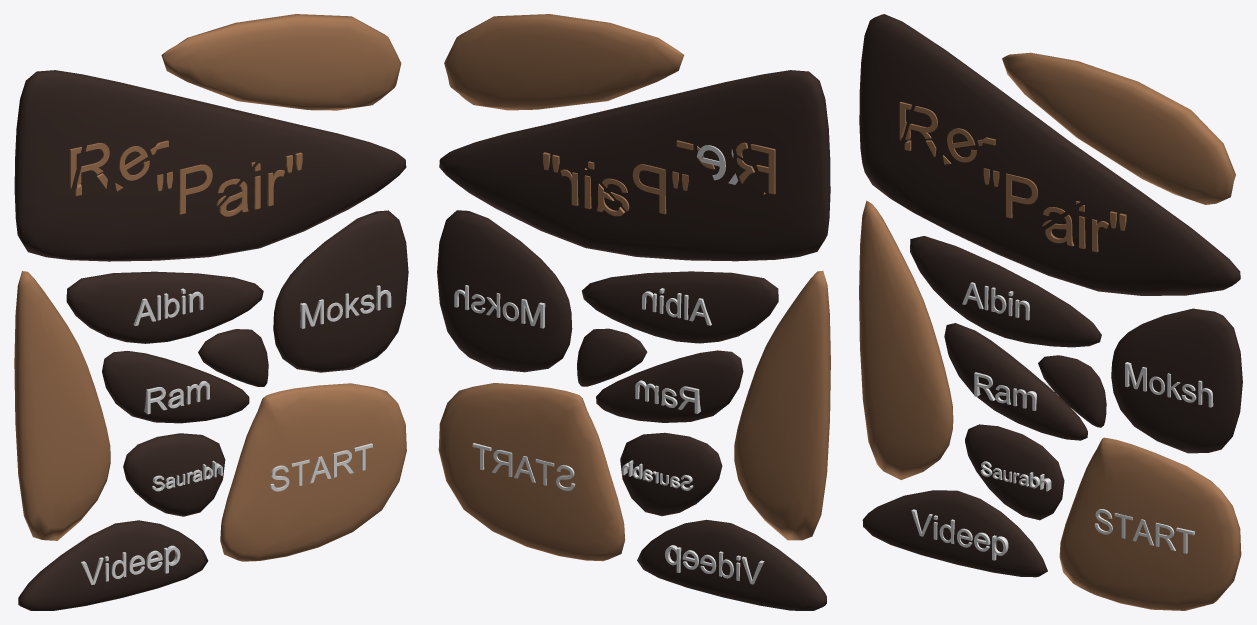
File: MainMenu.FBX
3 views of the same model, side by side, from view 1: azimuth 30°, elevation 25°; view 2: azimuth 150°, elevation 25°; view 3: azimuth 330°, elevation 25° (orthographic). The views are drawn at different scales.
Visible parts, largest first — view 1: Rectangle003_Part_019, Rectangle003_Part_014, Rectangle003_Part_017, Rectangle003_Part_013, Rectangle003_Part_016, Rectangle003_Part_020, Rectangle003_Part_018, Rectangle003_Part_011, Rectangle003_Part_015, Rectangle003_Part_012, Object005_Part_013, Text014 (+7 smaller); view 2: Rectangle003_Part_019, Rectangle003_Part_014, Rectangle003_Part_017, Rectangle003_Part_013, Rectangle003_Part_016, Rectangle003_Part_020, Rectangle003_Part_018, Rectangle003_Part_011, Rectangle003_Part_015, Rectangle003_Part_012, Text014, Text013 (+7 smaller); view 3: Rectangle003_Part_019, Rectangle003_Part_014, Rectangle003_Part_017, Rectangle003_Part_013, Rectangle003_Part_016, Rectangle003_Part_020, Rectangle003_Part_018, Rectangle003_Part_011, Rectangle003_Part_015, Rectangle003_Part_012, Text014, Object005_Part_013 (+7 smaller).
Part boxes in pixels (box(x1,y1,x2,y2)): Rectangle003_Part_019: box(14, 70, 406, 261); Rectangle003_Part_014: box(220, 383, 406, 561); Rectangle003_Part_017: box(14, 271, 110, 540); Rectangle003_Part_013: box(161, 14, 401, 110); Rectangle003_Part_016: box(273, 210, 408, 372); Rectangle003_Part_020: box(66, 271, 263, 343); Rectangle003_Part_018: box(18, 520, 208, 610); Rectangle003_Part_011: box(102, 351, 249, 423); Rectangle003_Part_015: box(123, 433, 225, 516); Rectangle003_Part_012: box(198, 329, 268, 386); Object005_Part_013: box(219, 152, 302, 216); Text014: box(81, 545, 180, 584); Rectangle003_Part_019: box(439, 70, 830, 261); Rectangle003_Part_014: box(438, 383, 625, 561); Rectangle003_Part_017: box(734, 271, 830, 540); Rectangle003_Part_013: box(444, 14, 684, 110); Rectangle003_Part_016: box(437, 210, 572, 372); Rectangle003_Part_020: box(582, 271, 778, 343); Rectangle003_Part_018: box(637, 519, 826, 610); Rectangle003_Part_011: box(596, 350, 743, 422); Rectangle003_Part_015: box(620, 432, 722, 516); Rectangle003_Part_012: box(577, 328, 647, 386); Text014: box(665, 545, 764, 584); Text013: box(454, 285, 545, 328); Rectangle003_Part_019: box(859, 14, 1240, 295); Rectangle003_Part_014: box(1059, 437, 1241, 610); Rectangle003_Part_017: box(859, 200, 953, 479); Rectangle003_Part_013: box(1002, 52, 1235, 204); Rectangle003_Part_016: box(1111, 308, 1242, 453); Rectangle003_Part_020: box(910, 236, 1101, 347); Rectangle003_Part_018: box(862, 490, 1047, 577); Rectangle003_Part_011: box(944, 323, 1087, 440); Rectangle003_Part_015: box(965, 424, 1064, 520); Rectangle003_Part_012: box(1038, 355, 1106, 427); Text014: box(911, 509, 1008, 560); Object005_Part_013: box(1045, 205, 1126, 252).
Bounding box in the file's own units: 29.36 × 39.02 × 1.97.
